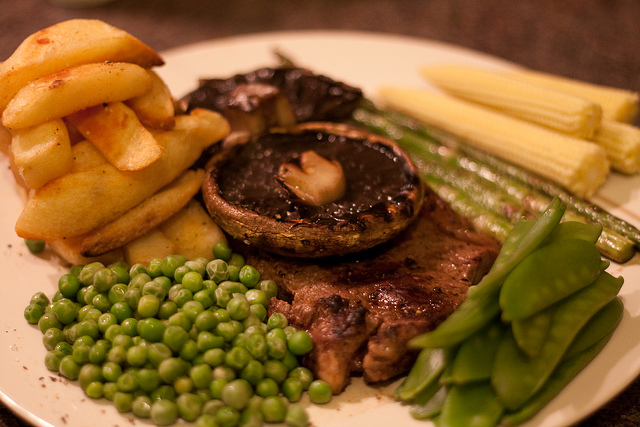boiled peas: (27, 270, 328, 427)
